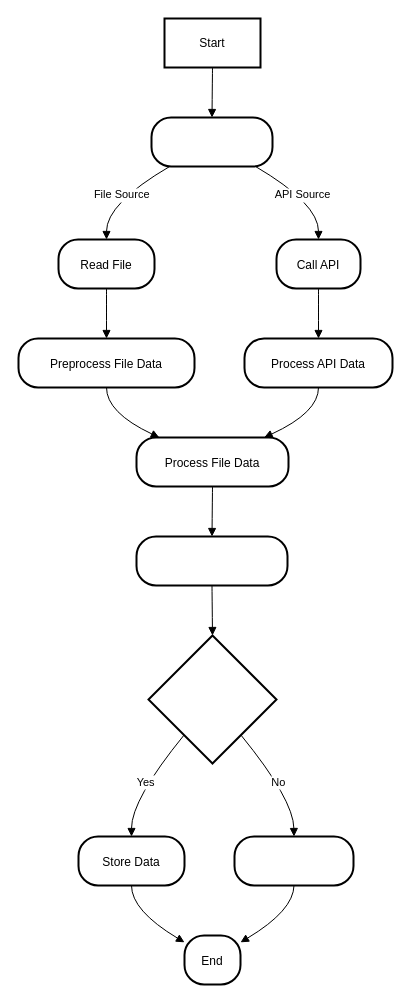
This 410x1002 diagram has some shape labels left out. Here are the shapes that lost their labels. From the top down, the centre of each, then its label:
At (211,141): "Process Data".
At (211,560): "Postprocess Data".
At (212,699): "Data Valid?".
At (293,860): "Report Error".
